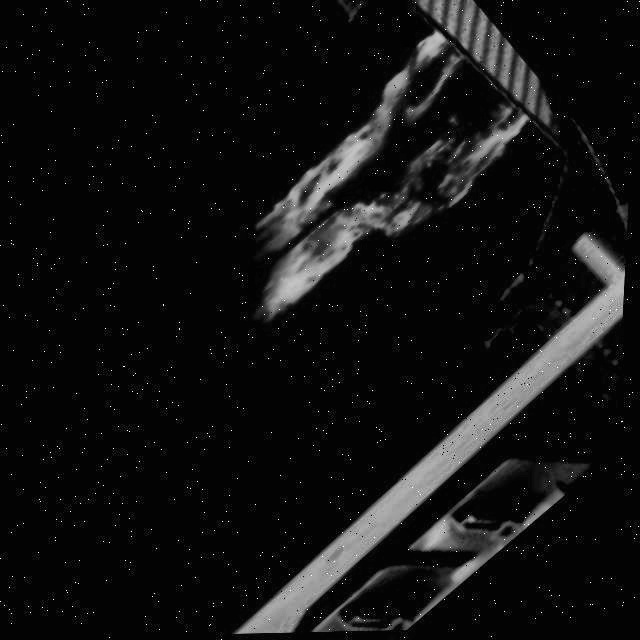Fire: (201, 17, 549, 343)
